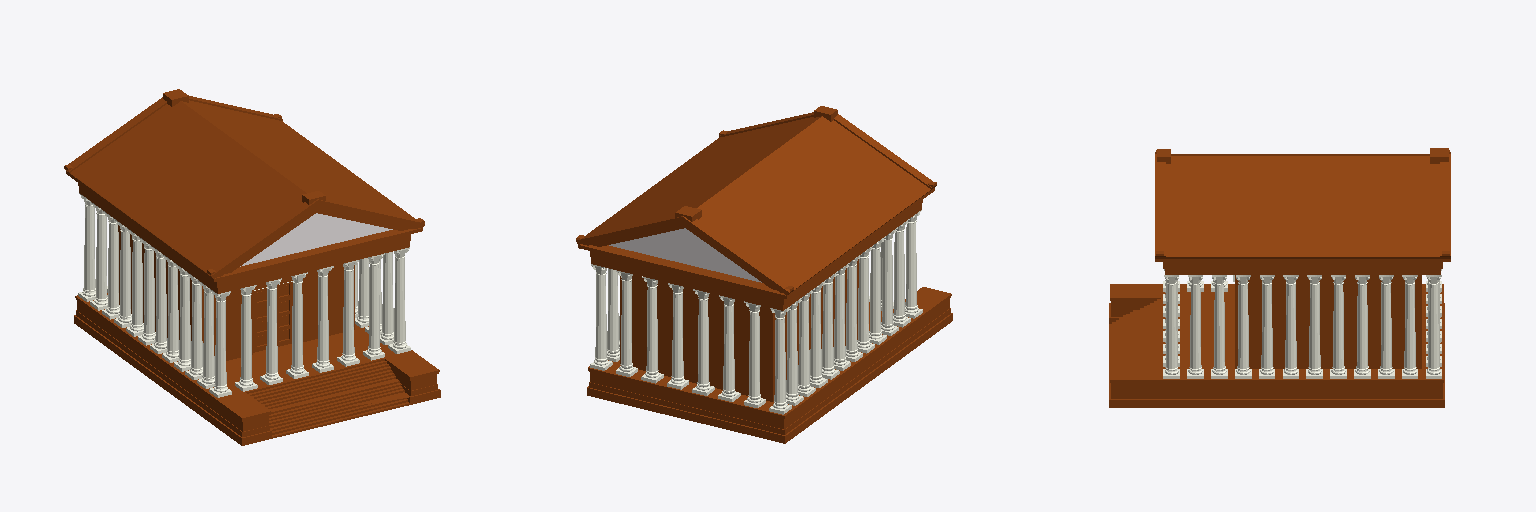
The picture shows the model from 3 angles: view 1: azimuth 30°, elevation 25°; view 2: azimuth 150°, elevation 25°; view 3: azimuth 270°, elevation 25°; orthographic projection.
Parts seen in each view (by area): view 1: Component_4_001, Component_1_001, Layer0_001, Component_4_002, Component_1_002, Group_016, Group_006, Group_036, Group_031, Group_011, Group_001, Group_026 (+14 smaller); view 2: Component_4_001, Layer0_001, Component_4_002, Component_1_001, Component_1_002, Group_091, Group_171, Group_166, Group_161, Group_156, Group_176, Group_146 (+13 smaller); view 3: Component_4_002, Layer0_001, Component_1_002, Component_1_001, Group_036, Group_121, Group_146, Group_096, Group_131, Group_126, Group_111, Group_136 (+5 smaller).
Boxes of the visible parts, x1=… form: Component_4_001: x1=64, y1=97, x2=318, y2=278; Component_1_001: x1=74, y1=293, x2=340, y2=445; Layer0_001: x1=66, y1=171, x2=422, y2=360; Component_4_002: x1=182, y1=96, x2=424, y2=248; Component_1_002: x1=278, y1=324, x2=440, y2=421; Group_016: x1=290, y1=281, x2=304, y2=373; Group_006: x1=239, y1=293, x2=253, y2=385; Group_036: x1=393, y1=256, x2=406, y2=348; Group_031: x1=367, y1=262, x2=381, y2=354; Group_011: x1=265, y1=287, x2=278, y2=379; Group_001: x1=214, y1=300, x2=227, y2=392; Group_026: x1=341, y1=269, x2=355, y2=360; Component_4_001: x1=682, y1=114, x2=936, y2=295; Layer0_001: x1=578, y1=188, x2=934, y2=401; Component_4_002: x1=576, y1=112, x2=821, y2=264; Component_1_001: x1=686, y1=287, x2=952, y2=443; Component_1_002: x1=587, y1=360, x2=695, y2=419; Group_091: x1=773, y1=316, x2=787, y2=408; Group_171: x1=696, y1=298, x2=710, y2=390; Group_166: x1=645, y1=285, x2=659, y2=377; Group_161: x1=722, y1=304, x2=735, y2=396; Group_156: x1=747, y1=310, x2=761, y2=402; Group_176: x1=619, y1=279, x2=633, y2=371; Group_146: x1=594, y1=273, x2=607, y2=365; Component_4_002: x1=1155, y1=154, x2=1450, y2=258; Layer0_001: x1=1155, y1=259, x2=1450, y2=368; Component_1_002: x1=1109, y1=332, x2=1444, y2=407; Component_1_001: x1=1109, y1=284, x2=1444, y2=356; Group_036: x1=1165, y1=282, x2=1178, y2=374; Group_121: x1=1284, y1=282, x2=1297, y2=374; Group_146: x1=1427, y1=282, x2=1440, y2=374; Group_096: x1=1308, y1=282, x2=1321, y2=374; Group_131: x1=1379, y1=282, x2=1393, y2=374; Group_126: x1=1236, y1=282, x2=1250, y2=374; Group_111: x1=1403, y1=282, x2=1416, y2=374; Group_136: x1=1355, y1=282, x2=1369, y2=374.
Bounding box in the file's own units: 881 × 814 × 1222.